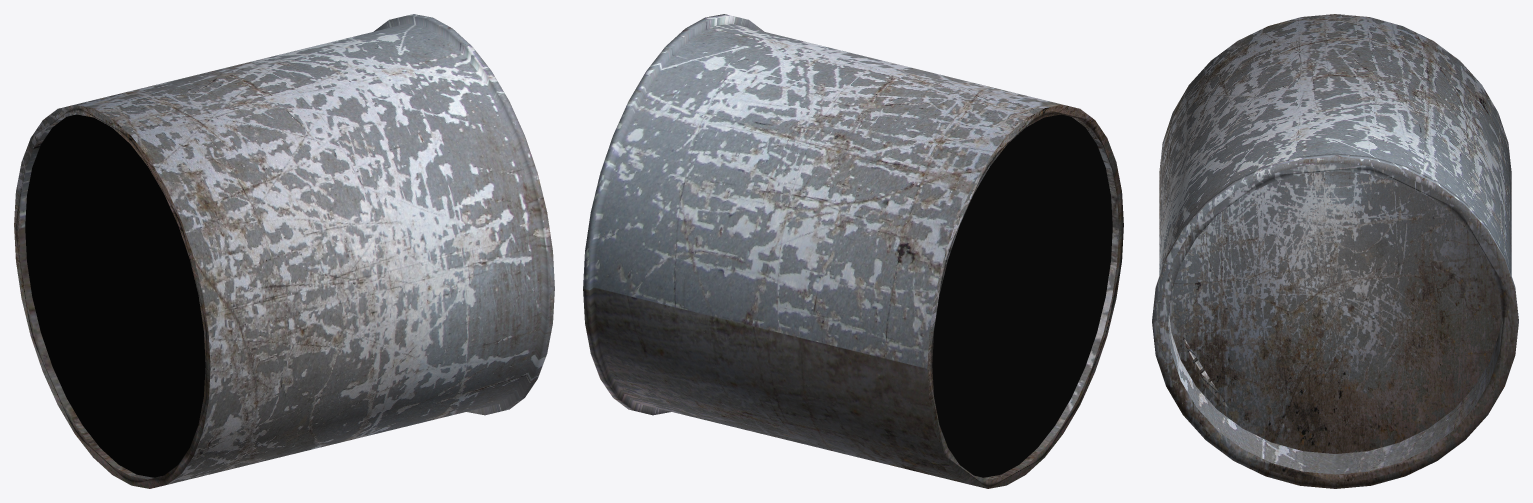
Rendered from ventilator.fbx.
3 views of the same model, side by side, from view 1: azimuth 30°, elevation 25°; view 2: azimuth 150°, elevation 25°; view 3: azimuth 270°, elevation 25° (orthographic). The views are drawn at different scales.
Parts seen in each view (by area): view 1: Pipe, Plane; view 2: Pipe, Plane; view 3: Pipe, Net.
Boxes of the visible parts, x1,y1,x2,y2 form: Pipe: (14, 14, 554, 488); Plane: (25, 114, 205, 477); Pipe: (583, 14, 1123, 488); Plane: (932, 114, 1112, 477); Pipe: (1152, 14, 1518, 488); Net: (1169, 171, 1501, 453).
Size of the model in its own units: 48.07 by 50.01 by 50.01.
